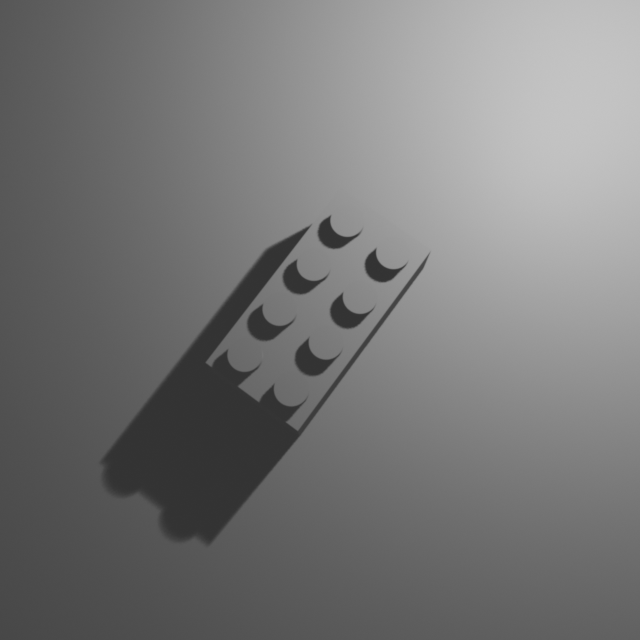lego_2x4: (204, 183, 433, 437)
